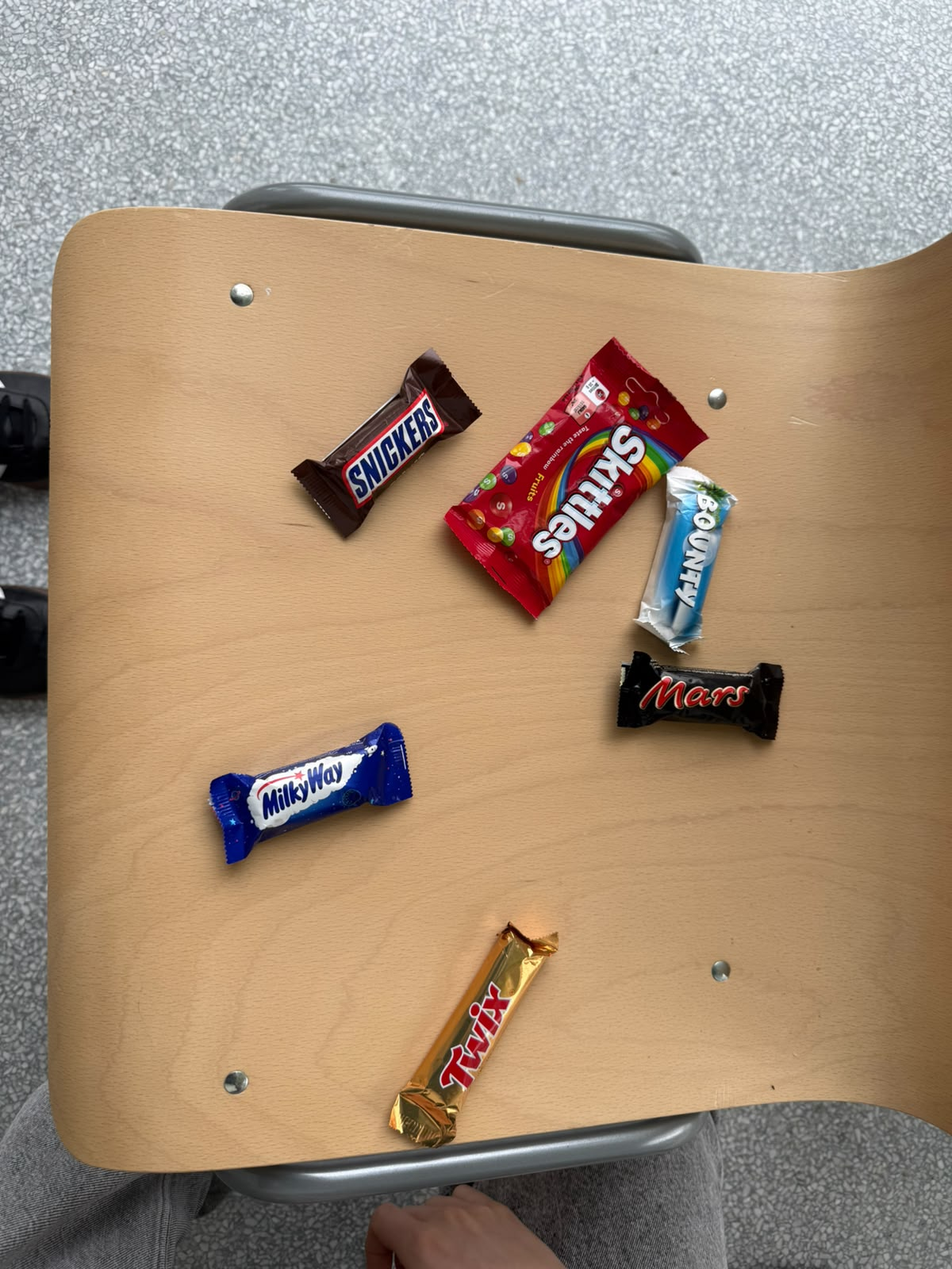Bounty: (622, 638, 811, 732)
Mars: (602, 636, 795, 763)
MilkyWay: (162, 778, 434, 888)
Skittles: (624, 293, 826, 639)
Snickers: (417, 306, 551, 550)
Twix: (500, 881, 619, 1176)
